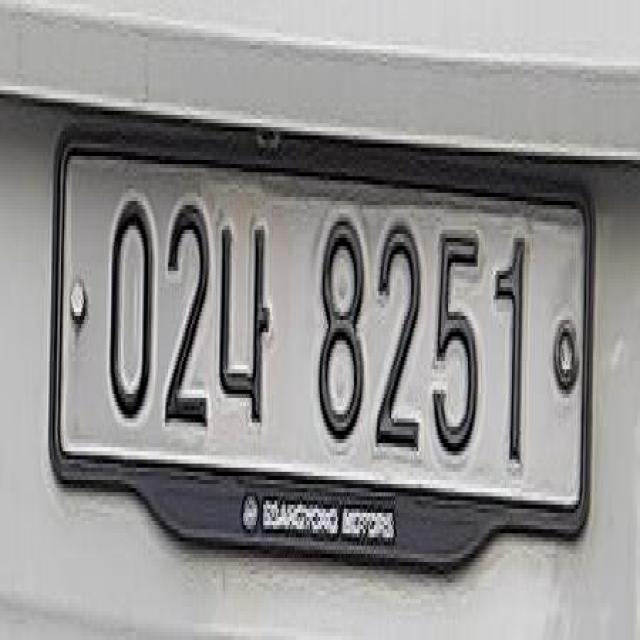illegal_plate: (50, 136, 602, 583)
